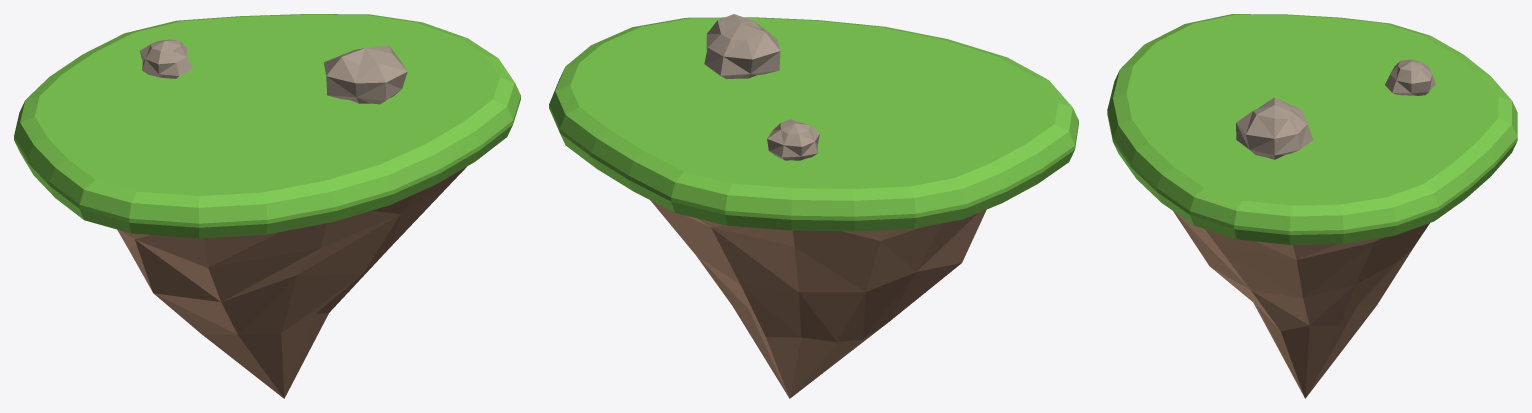
The model's file is island_small.obj.
3 renders of one model, left to right at view 1: azimuth 30°, elevation 25°; view 2: azimuth 150°, elevation 25°; view 3: azimuth 270°, elevation 25°, orthographic. The views are drawn at different scales.
Size of the model in its own units: 11.49 by 8.36 by 9.62.
